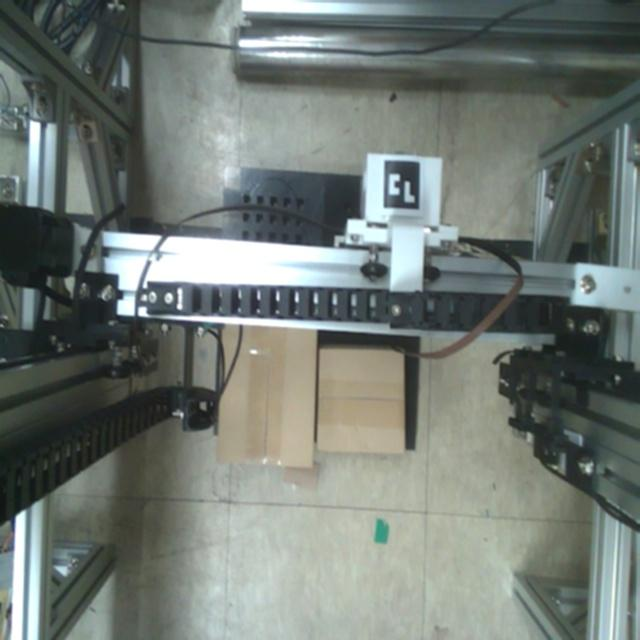box: (313, 344, 410, 457)
